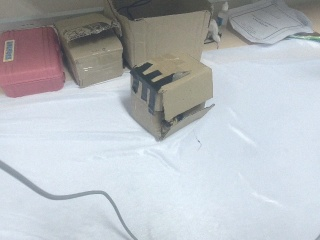box: (129, 53, 214, 141), (111, 1, 211, 67), (56, 10, 124, 87), (1, 25, 67, 100)
